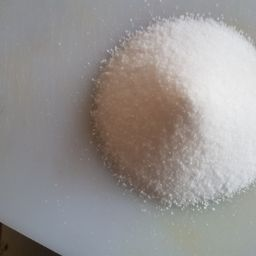Salt: (78, 11, 256, 215), (117, 47, 254, 165)
